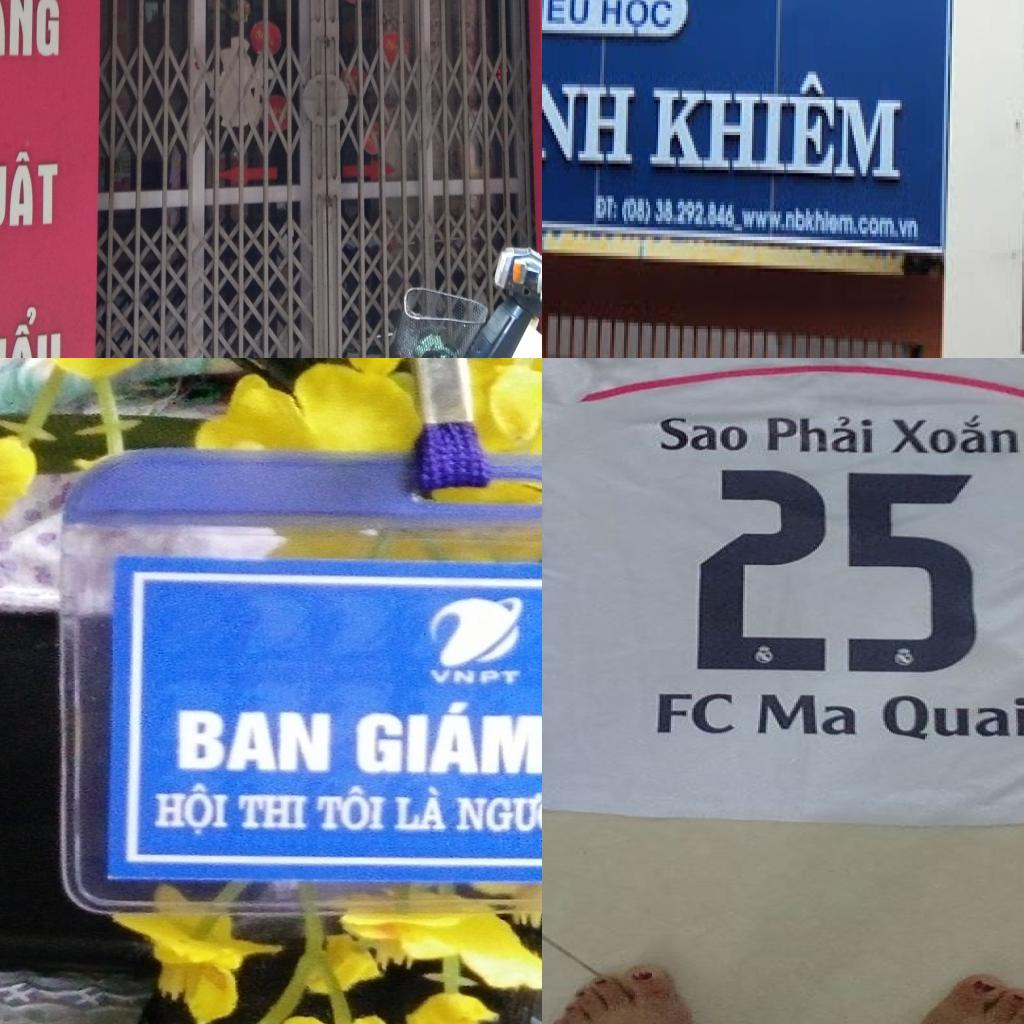text: (669, 463, 1005, 678), (352, 698, 542, 775), (542, 39, 642, 176), (168, 702, 336, 778), (747, 686, 870, 750), (879, 409, 1024, 462), (740, 205, 922, 246), (638, 682, 748, 746), (752, 406, 882, 456), (622, 192, 740, 237), (0, 148, 61, 232), (644, 412, 756, 456), (151, 778, 232, 838), (450, 786, 542, 836), (0, 295, 65, 358), (313, 783, 390, 834), (0, 0, 64, 58), (598, 0, 678, 43), (389, 782, 453, 835), (232, 792, 312, 830), (419, 663, 530, 689), (542, 0, 596, 33), (592, 189, 622, 227)
